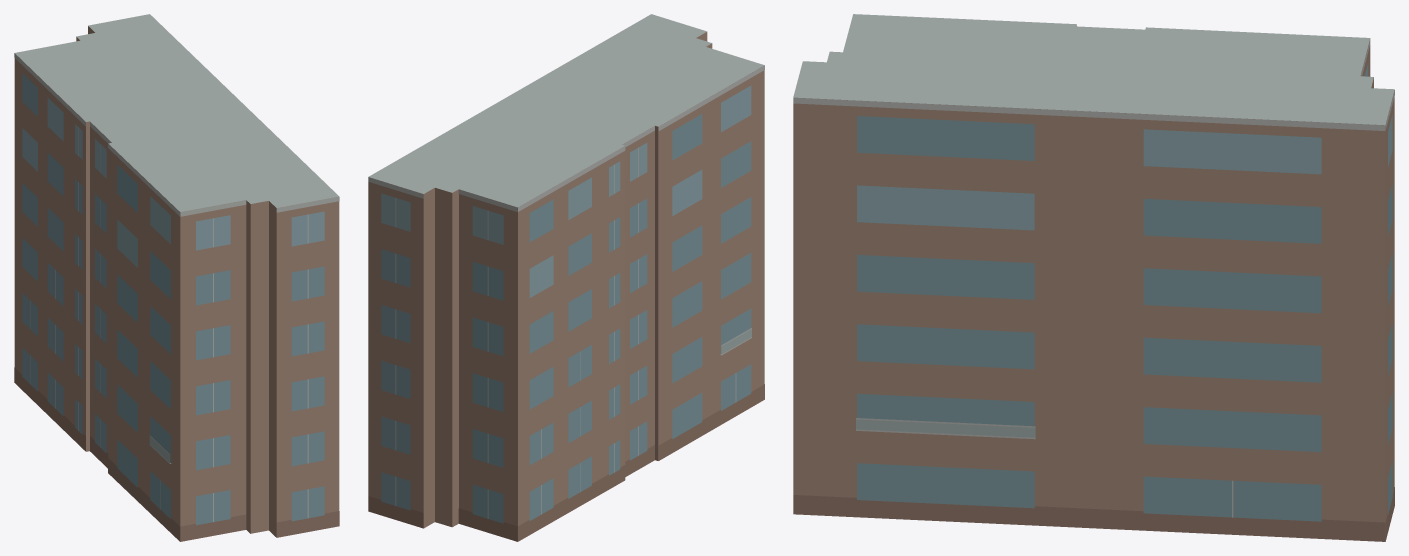
File: survey-upis-32923019.glb
3 renders of one model, left to right at view 1: azimuth 30°, elevation 25°; view 2: azimuth 150°, elevation 25°; view 3: azimuth 270°, elevation 25°, orthographic. The views are drawn at different scales.
Parts seen in each view (by area): view 1: survey-upis-32923019.tmp; view 2: survey-upis-32923019.tmp; view 3: survey-upis-32923019.tmp.
Part boxes in pixels (x1,y1,x2,y2): survey-upis-32923019.tmp: (14, 14, 339, 541); survey-upis-32923019.tmp: (368, 14, 764, 541); survey-upis-32923019.tmp: (793, 14, 1394, 541).
Bounding box in the file's own units: 9.85 × 17.2 × 22.52.
